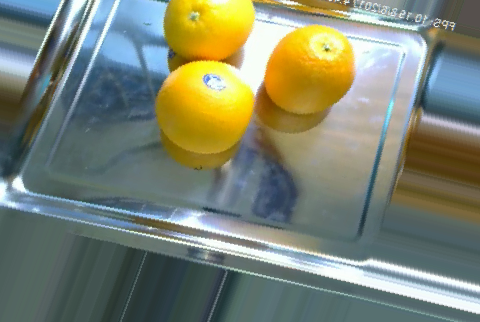Orange: (156, 60, 256, 153), (265, 23, 355, 113), (163, 0, 256, 59)
